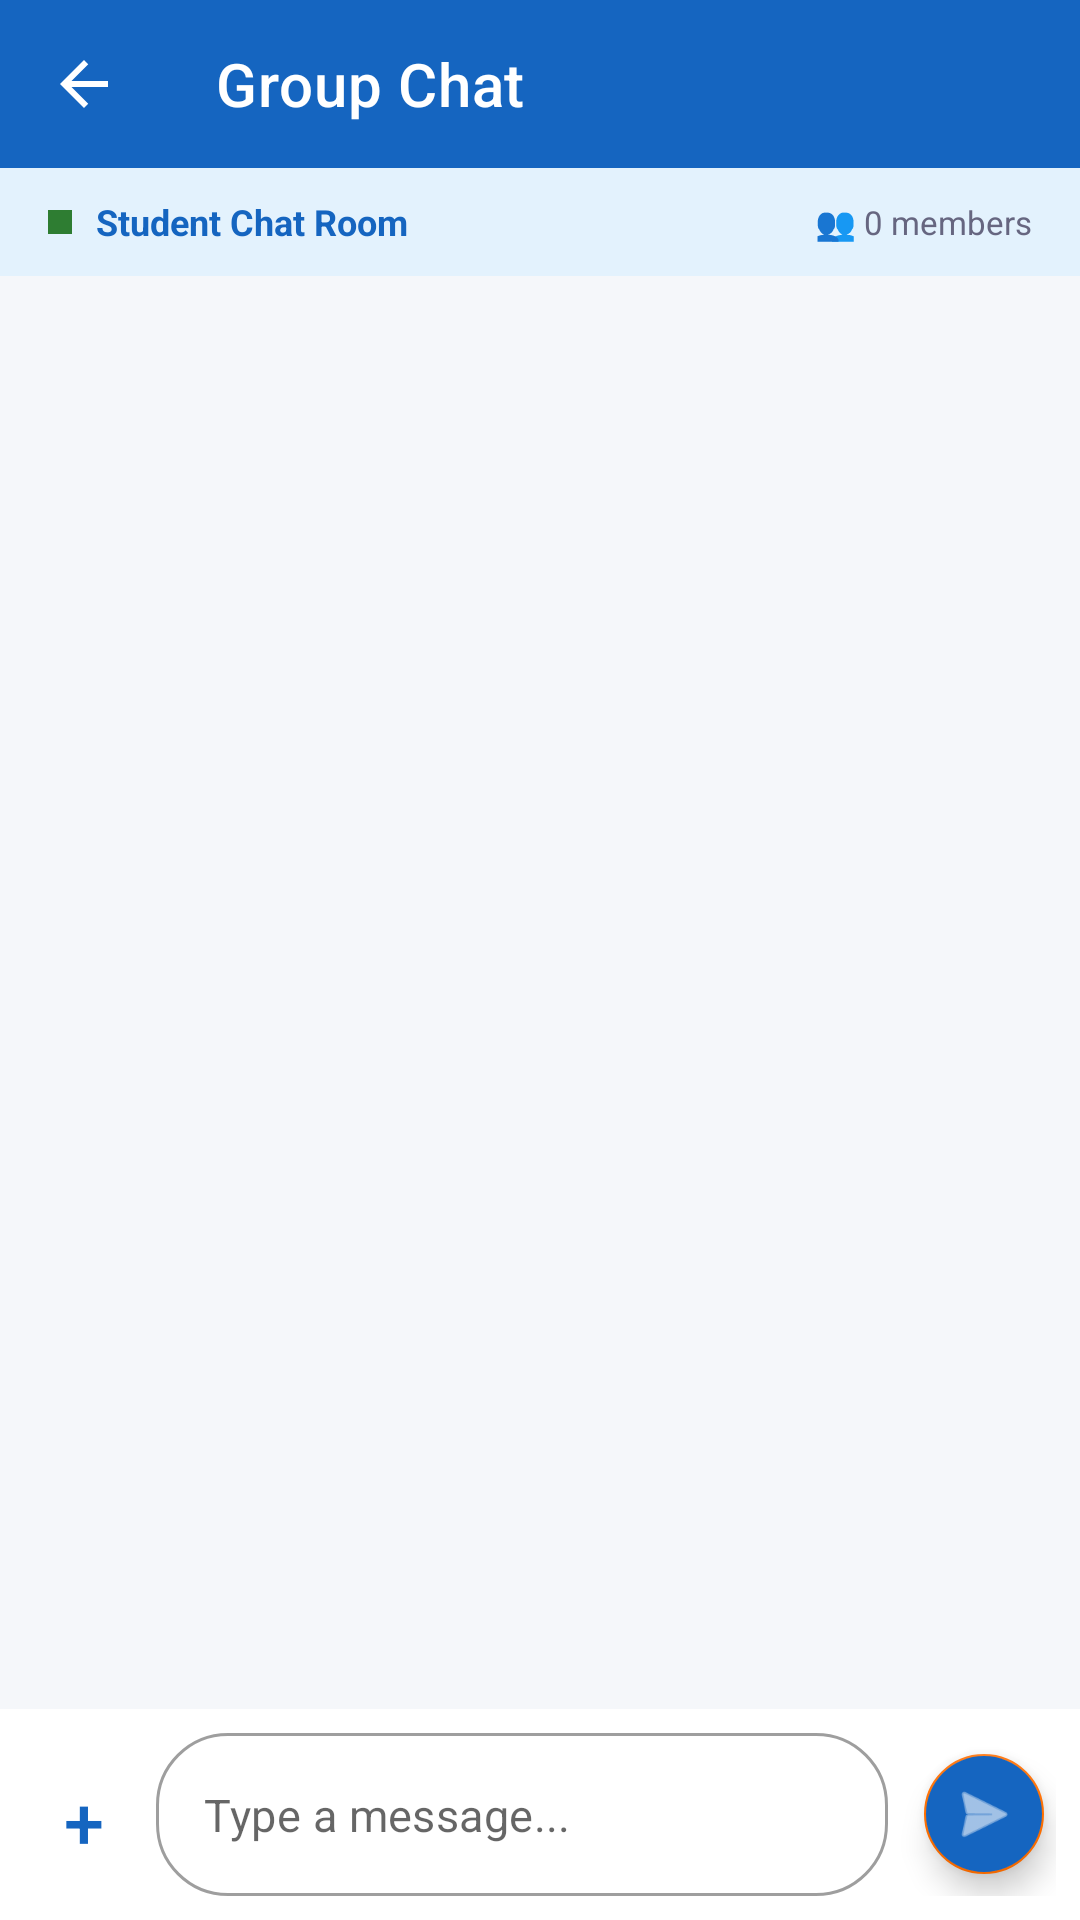

Screen size 1080*1920. Icon name, then its box in pixels as (x1, y1, x2, y2):
send: (924, 1754, 1047, 1886)
